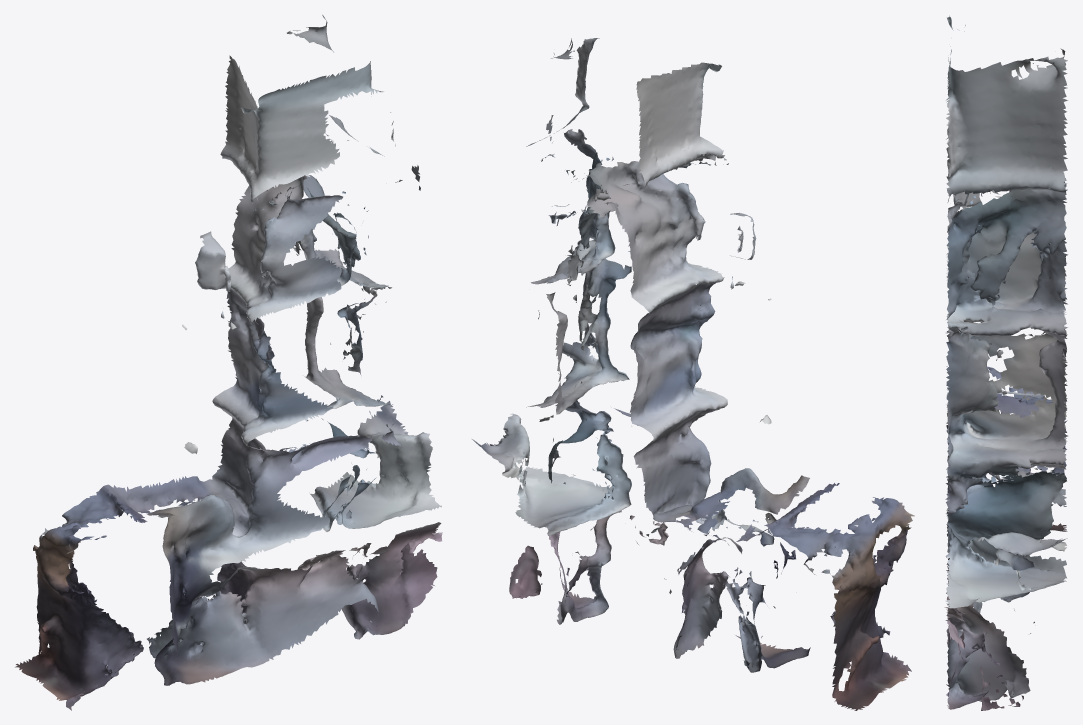
Rendered from apartment-full-42-0b9500d374ce.glb.
The picture shows the model from 3 angles, left to right: view 1: azimuth 30°, elevation 25°; view 2: azimuth 150°, elevation 25°; view 3: azimuth 270°, elevation 25°; orthographic projection. The views are drawn at different scales.
Bounding box in the file's own units: 0.953 × 1.42 × 0.248.
